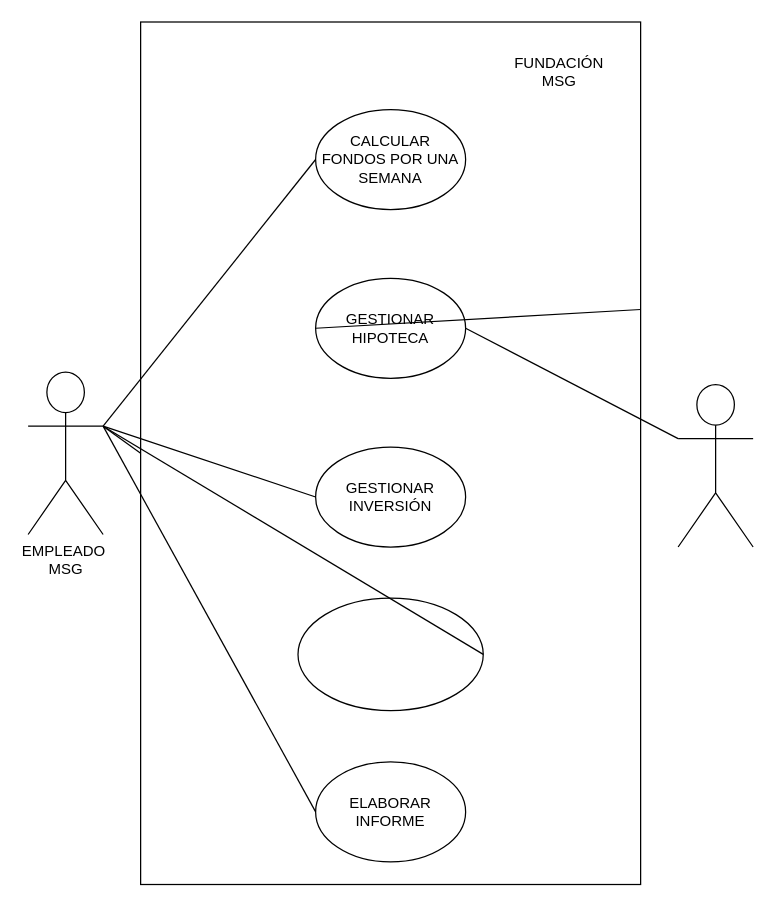
Image size: 775x906. Some labels were removed from this diagram. The centre of each missing label's shape, as x and y in pixels:
"ACTUALIZAR GASTOS OPERATIVOS ANUALES ESTIMADOS" goes at (390,654).
"DEUDOR" goes at (715,465).
